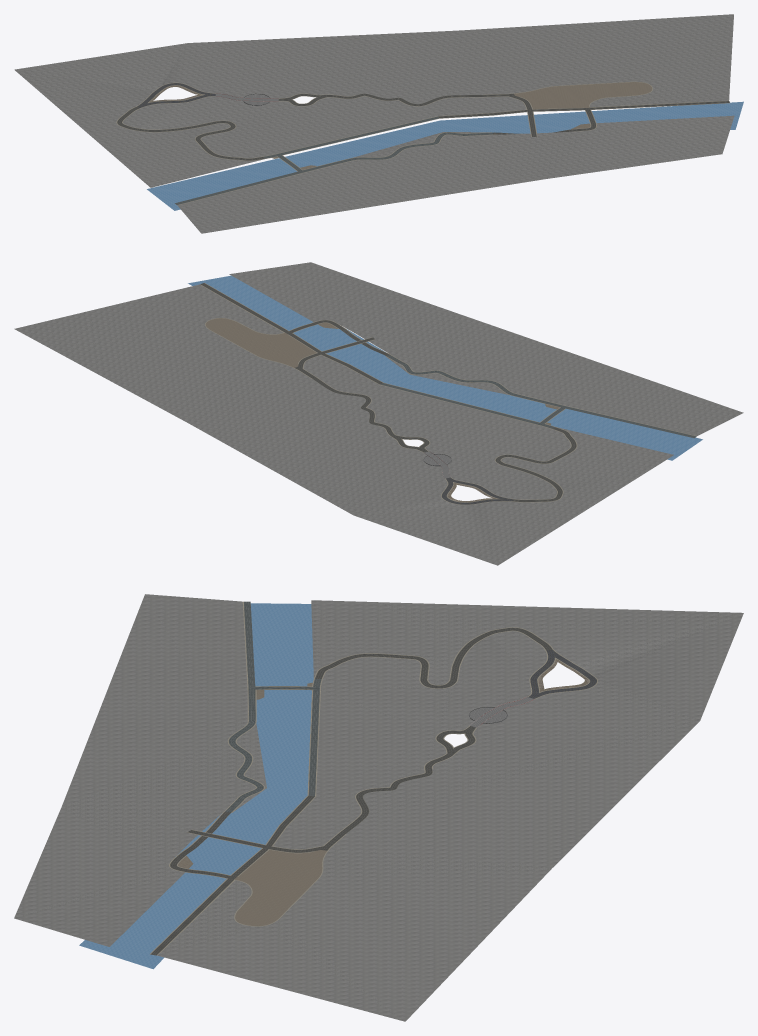
File: Ground.glb
3 views of the same model, one above another, from view 1: azimuth 30°, elevation 25°; view 2: azimuth 150°, elevation 25°; view 3: azimuth 270°, elevation 25° (orthographic). The views are drawn at different scales.
Visible parts, largest first — view 1: dibiao_29, dibiao_28, shaidao_55_13, dibiao_30, shaidao_55_1, shaidao_57_1, shaidao_55_2, shaidao_57_2, shaidao_54_1, shaidao_57_5, shaidao_59_2, shaidao_54_2 (+3 smaller); view 2: dibiao_29, dibiao_28, shaidao_55_13, dibiao_30, shaidao_55_1, shaidao_55_2, shaidao_57_1, shaidao_54_1, shaidao_57_2, shaidao_57_5, shaidao_59_2, shaidao_54_2 (+1 smaller); view 3: dibiao_29, dibiao_28, shaidao_55_13, dibiao_30, shaidao_55_1, shaidao_57_1, shaidao_54_1, shaidao_55_2, shaidao_57_5, shaidao_59_2, shaidao_57_2, shaidao_56_1 (+3 smaller).
Boxes of the visible parts, box(x1,y1,x2,y2) form: dibiao_29: box(14, 14, 733, 187); dibiao_28: box(177, 115, 734, 233); shaidao_55_13: box(147, 101, 743, 210); dibiao_30: box(517, 84, 646, 109); shaidao_55_1: box(175, 116, 492, 204); shaidao_57_1: box(438, 93, 729, 118); shaidao_55_2: box(177, 116, 492, 205); shaidao_57_2: box(438, 81, 729, 118); shaidao_54_1: box(117, 106, 264, 160); shaidao_57_5: box(514, 82, 651, 107); shaidao_59_2: box(278, 93, 462, 105); shaidao_54_2: box(116, 106, 264, 160); dibiao_29: box(14, 284, 673, 565); dibiao_28: box(229, 262, 743, 435); shaidao_55_13: box(188, 275, 702, 460); dibiao_30: box(211, 320, 316, 365); shaidao_55_1: box(380, 355, 696, 438); shaidao_55_2: box(380, 354, 696, 436); shaidao_57_1: box(200, 283, 382, 386); shaidao_54_1: box(495, 427, 576, 501); shaidao_57_2: box(200, 283, 383, 385); shaidao_57_5: box(205, 318, 298, 367); shaidao_59_2: box(324, 385, 429, 452); shaidao_54_2: box(494, 427, 577, 502); dibiao_29: box(158, 600, 743, 1021); dibiao_28: box(14, 594, 266, 946); shaidao_55_13: box(79, 603, 313, 969); dibiao_30: box(239, 850, 318, 922); shaidao_55_1: box(225, 601, 321, 812); shaidao_57_1: box(150, 795, 358, 955); shaidao_54_1: box(315, 627, 552, 688); shaidao_55_2: box(224, 601, 322, 812); shaidao_57_5: box(234, 850, 326, 925); shaidao_59_2: box(353, 726, 475, 823); shaidao_57_2: box(150, 795, 358, 955); shaidao_56_1: box(170, 811, 264, 878).
Bounding box in the file's own units: 34.44 × 0.1974 × 24.97.
10 materials, 10 textured.
